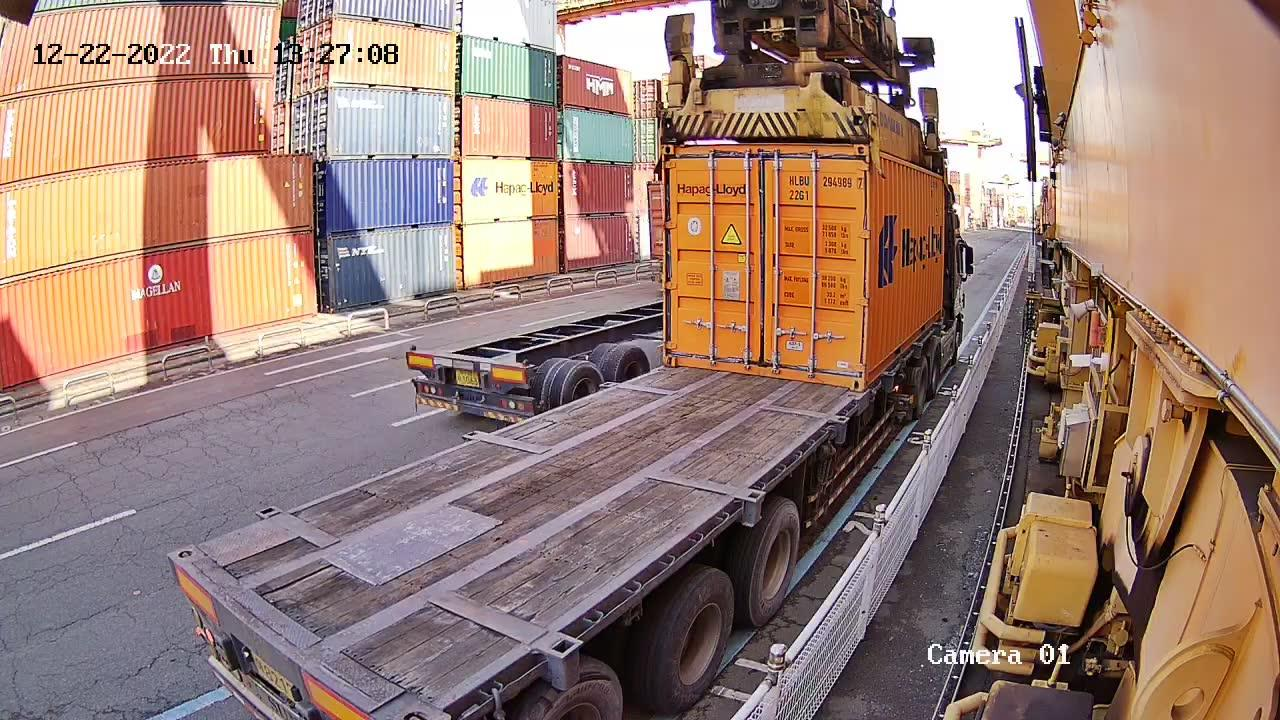Chassis: (650, 365, 866, 402)
Hole_L: (662, 340, 689, 367)
Hole_R: (836, 359, 865, 391)
Tire: (915, 359, 929, 411), (930, 345, 940, 396)
